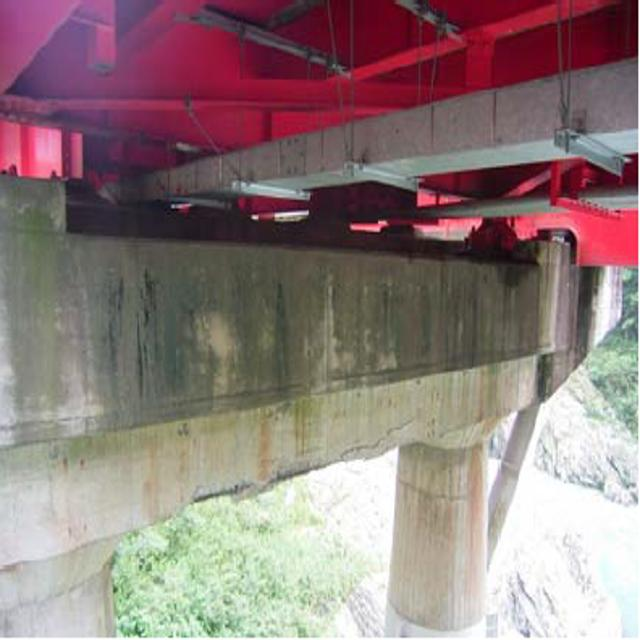leakage: (40, 237, 591, 406)
